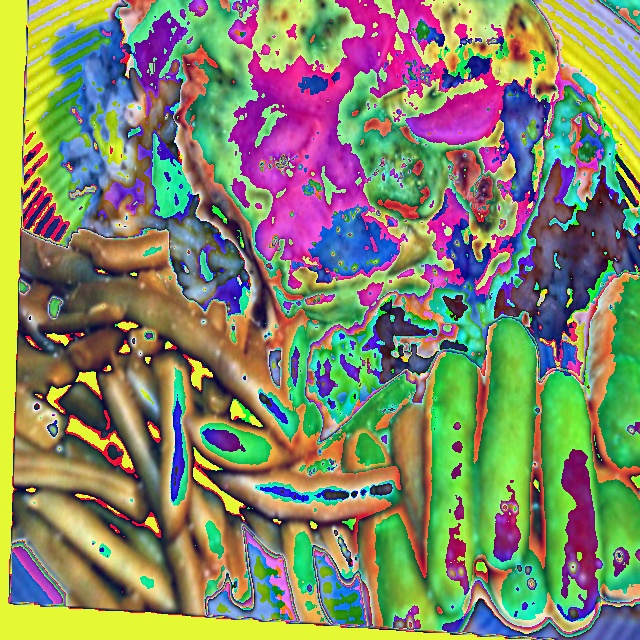background: (13, 0, 639, 637)
